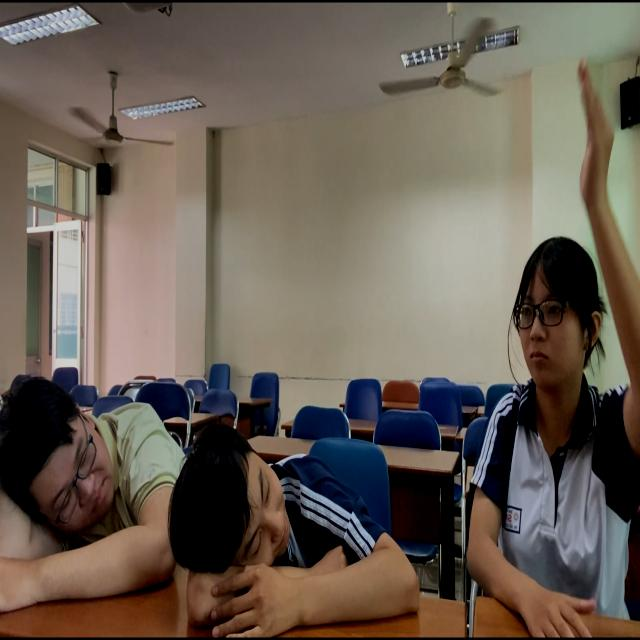raise_hand: (466, 57, 640, 640)
sleep: (175, 426, 439, 629), (1, 367, 181, 594)
